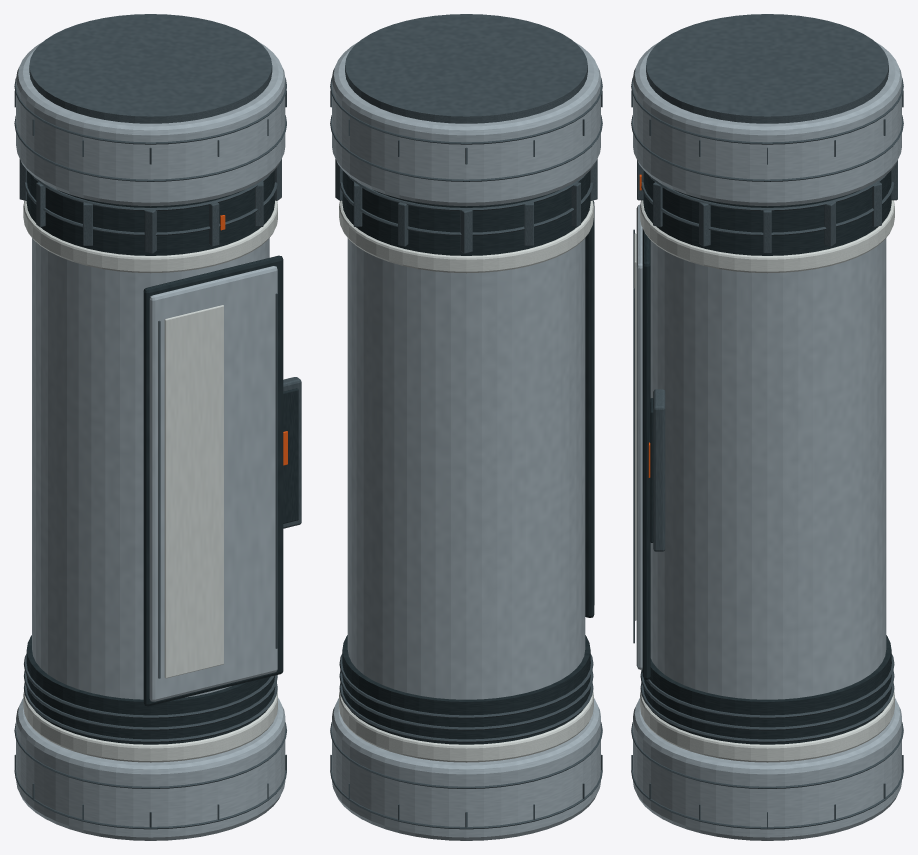
The model's file is WhiteSciFiTube.glb.
The picture shows the model from 3 angles, left to right: view 1: azimuth 30°, elevation 25°; view 2: azimuth 150°, elevation 25°; view 3: azimuth 270°, elevation 25°; orthographic projection.
Visible parts, largest first — view 1: Tube_WhiteHousing, Tube_GunmetalDetails, Tube_DarkRecesses, Tube_PalePanels; view 2: Tube_WhiteHousing, Tube_GunmetalDetails, Tube_DarkRecesses; view 3: Tube_WhiteHousing, Tube_GunmetalDetails, Tube_DarkRecesses, Tube_PalePanels.
Part boxes in pixels (box(x1,y1,x2,y2)): Tube_WhiteHousing: box(16, 41, 285, 840); Tube_GunmetalDetails: box(14, 14, 301, 829); Tube_DarkRecesses: box(26, 170, 298, 744); Tube_PalePanels: box(164, 305, 223, 678); Tube_WhiteHousing: box(332, 42, 600, 840); Tube_GunmetalDetails: box(330, 14, 602, 829); Tube_DarkRecesses: box(342, 170, 594, 744); Tube_WhiteHousing: box(633, 42, 901, 840); Tube_GunmetalDetails: box(631, 14, 903, 829); Tube_DarkRecesses: box(642, 170, 891, 744); Tube_PalePanels: box(634, 233, 636, 620).
Bounding box in the file's own units: 4.11 × 12 × 4.11.
Materials: 5 (5 with a texture image).
